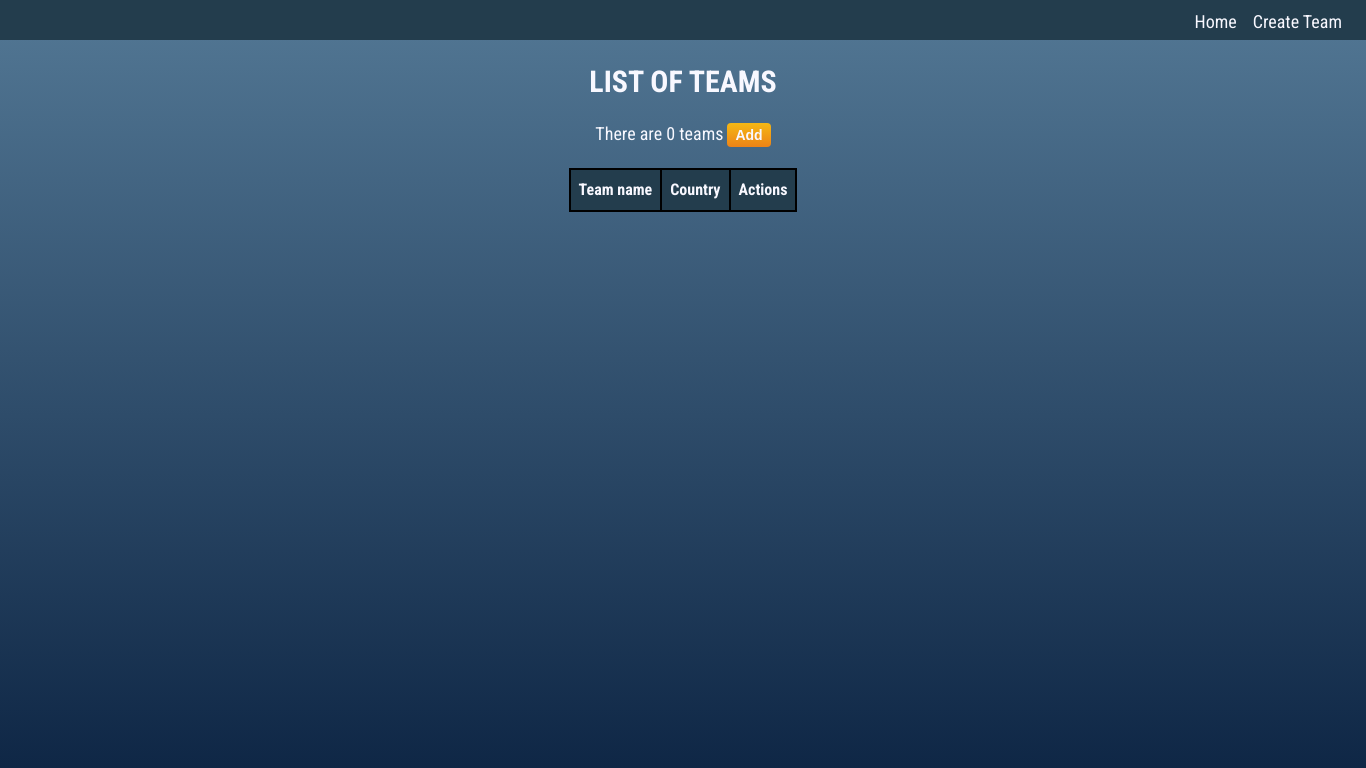
Scenario: Single Page Application management › Tests verify that it changes from home page to create team page
The width and height of the screenshot is (1366, 768).
Expected: the heading "LIST OF TEAMS" is shown, left=589, top=64, right=777, bottom=99
Expected: the heading with test id "page-title" reads "LIST OF TEAMS", left=589, top=64, right=776, bottom=99
Click the link with test id "nav-link-create-team". click: [1298, 22]
box: left=1253, top=11, right=1342, bottom=32
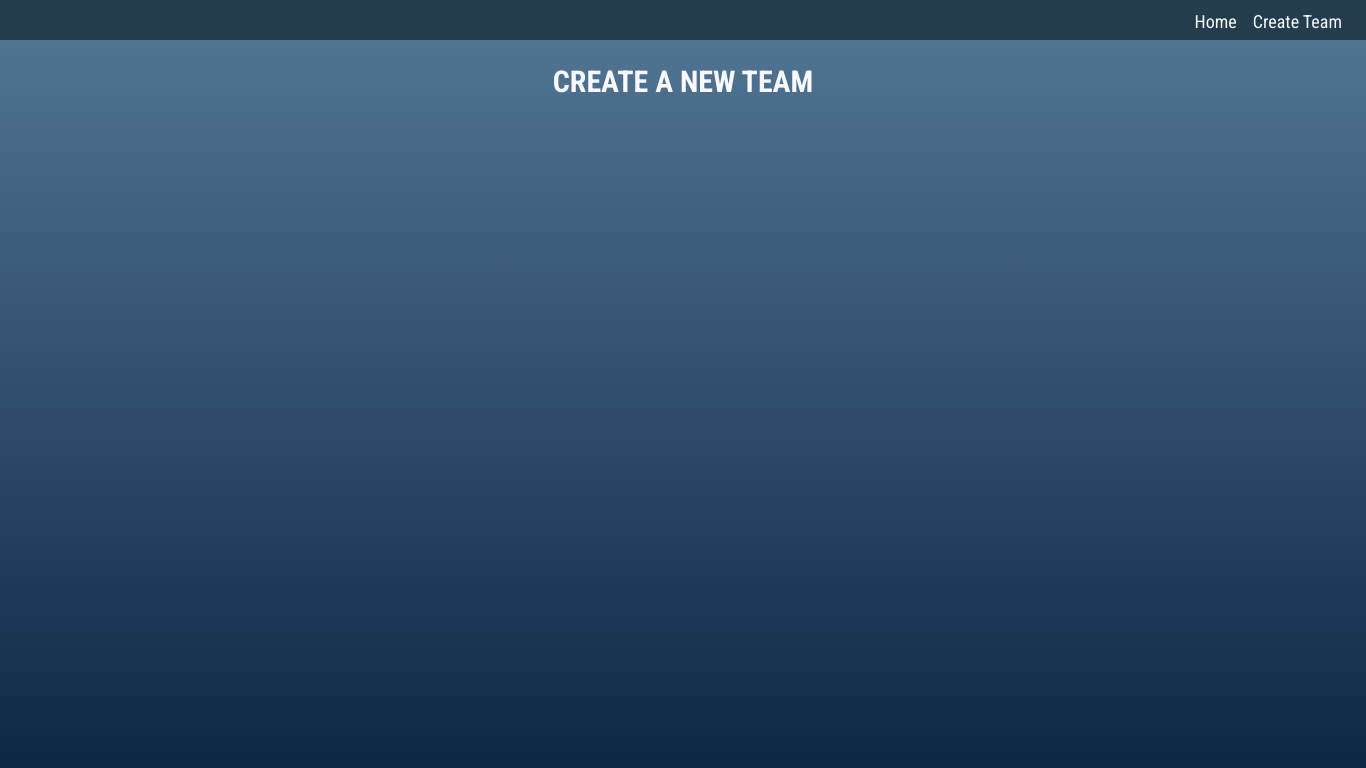
Expected: the navigation bar with test id "navbar" is shown, left=0, top=0, right=1365, bottom=40
Expected: the heading with test id "page-title" reads "CREATE A NEW TEAM", left=553, top=64, right=814, bottom=99
